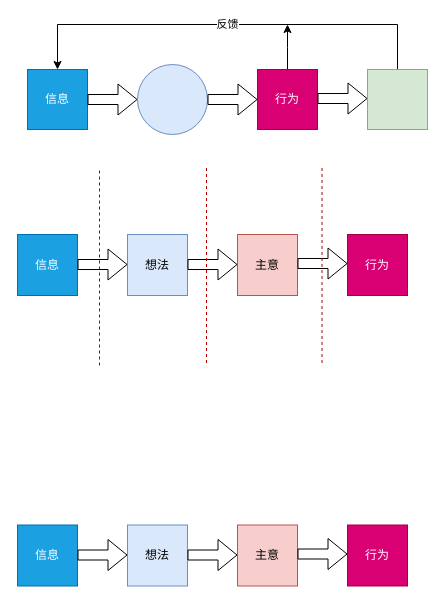
The diagram is 445 pixels wide and 604 high, and some of its shapes have lost their labels. Here are the shapes that lost their labels. From the top down, the centre of each, then its label:
the point at 172,99: 大脑
the point at 397,99: 环境
